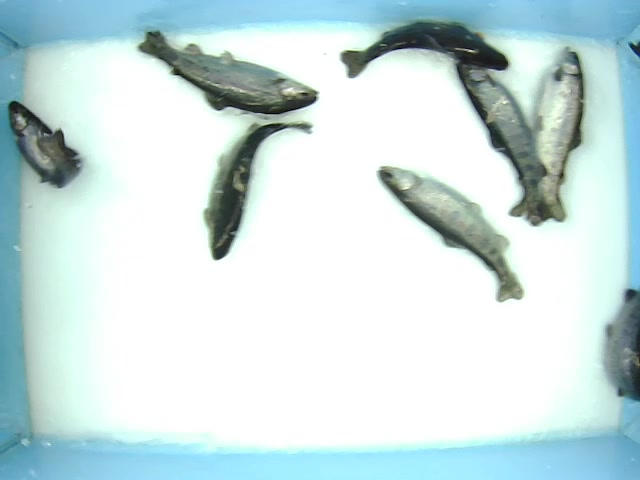fish: (372, 161, 526, 306), (199, 115, 314, 263), (449, 55, 547, 225), (135, 28, 321, 116), (524, 46, 591, 223), (338, 19, 510, 77), (5, 98, 87, 194)
